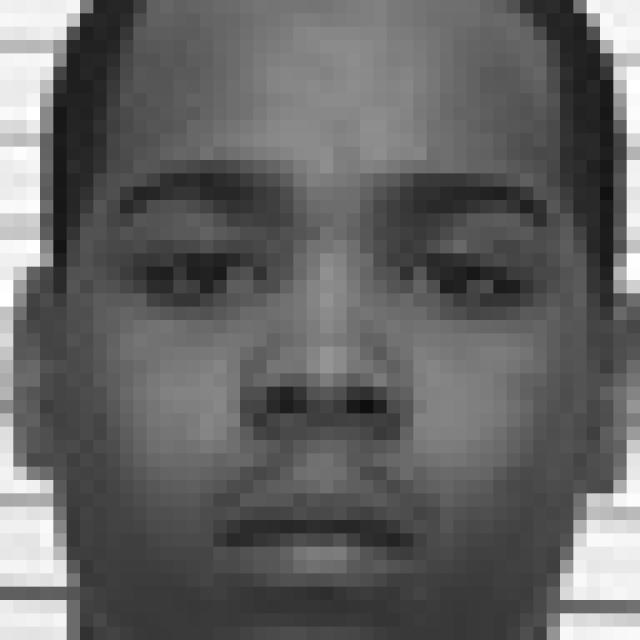neutral: (101, 150, 564, 603)
